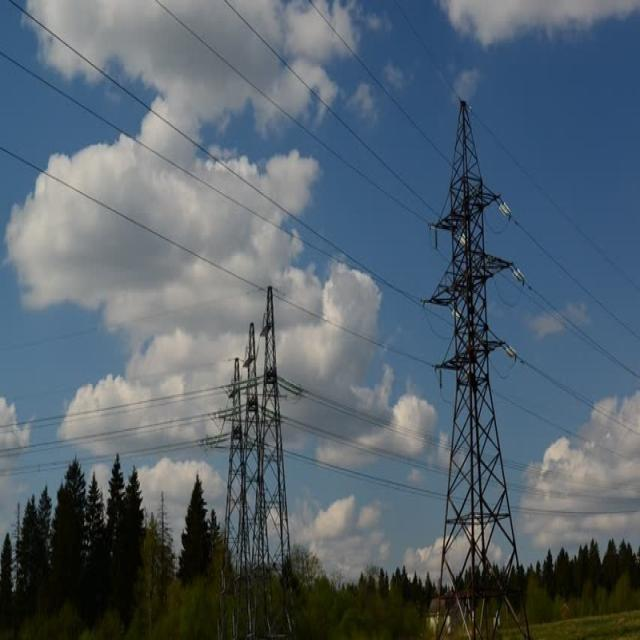non-critical vegetation: (422, 102, 546, 568), (226, 293, 288, 566)
